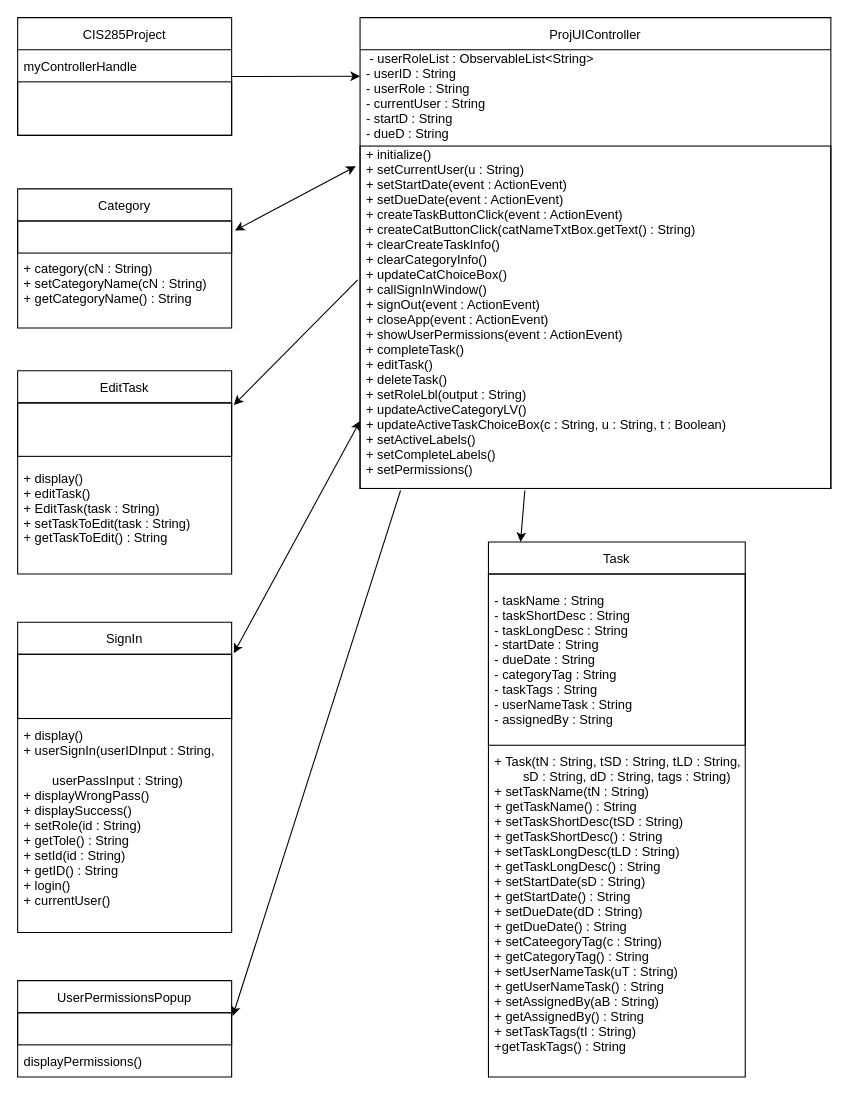
Image size: 849x1095. Some labels were removed from this diagram. Each missing label, with the centre of its shape:
"+ start(primaryStage : Stage) + main(args : String[]" belongs at pixel 124 108.
"- taskToEdit : String" belongs at pixel 124 429.
"- userID : String - userRole : String" belongs at pixel 124 686.
